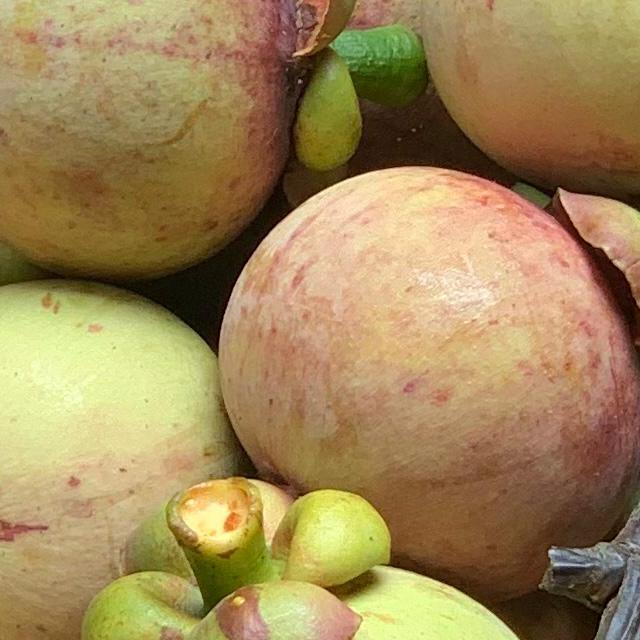mangosteen: (0, 0, 432, 274), (48, 451, 588, 640)
